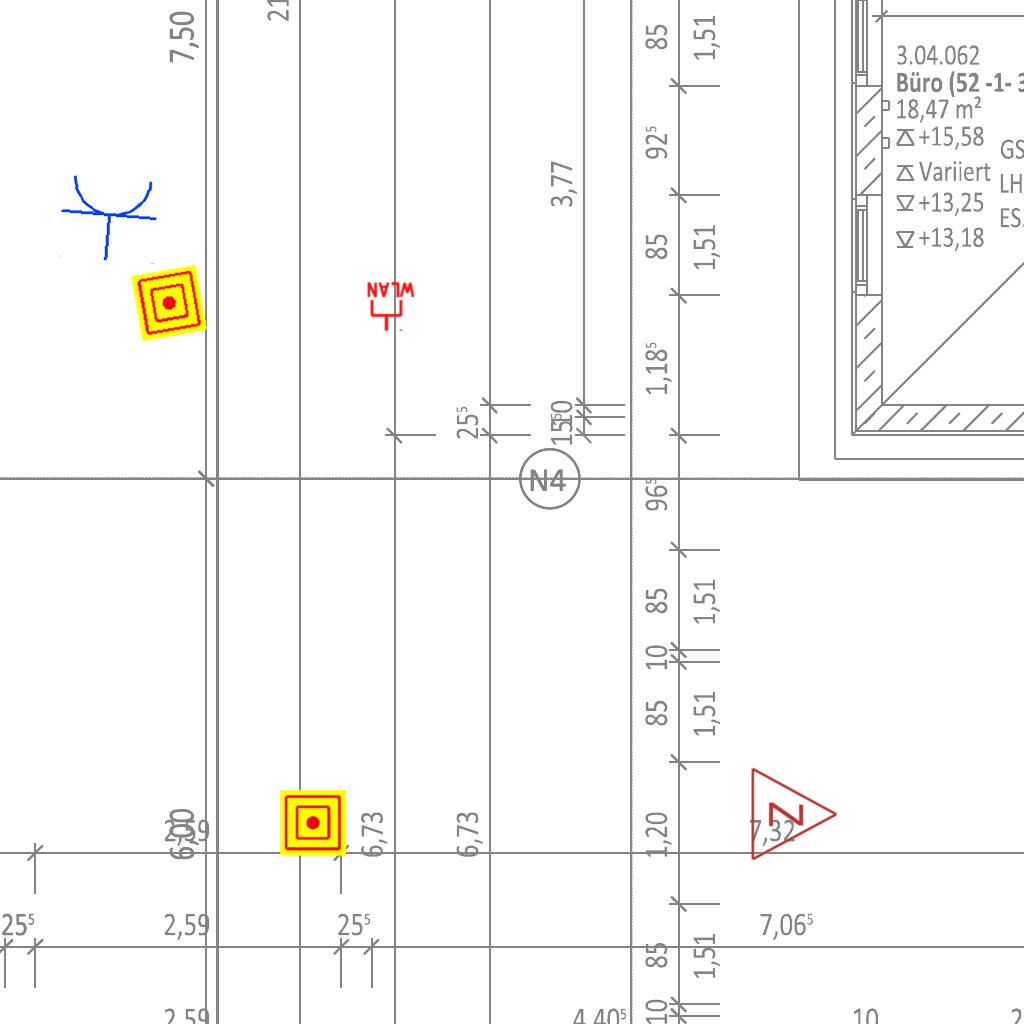NAM-Nichtautomatischer_Melder: (130, 264, 208, 342), (280, 790, 346, 856)
Schukosteckdose_einfach: (56, 169, 164, 266)
WLAN: (365, 281, 417, 333)
Zimmersignalleuchte: (744, 764, 844, 862)
